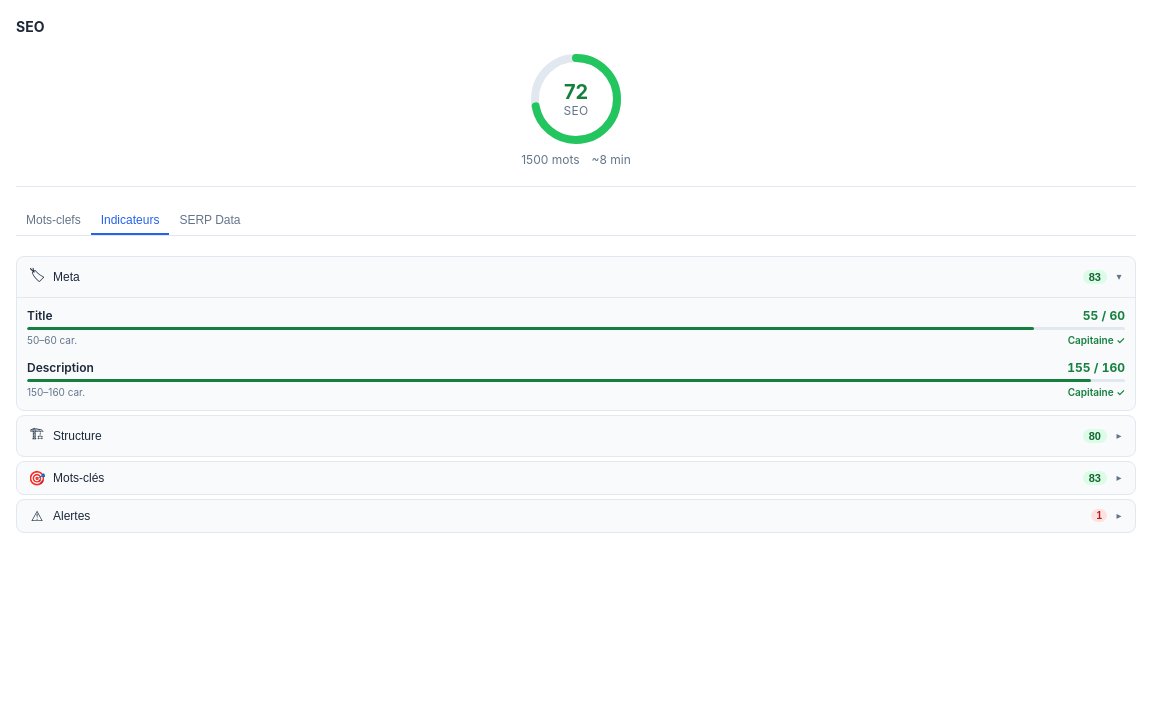
Test: SeoPanel › shows NlpTerms when category is nlp
Click the tab with class "seo-tab" showing "Mots-clefs". click: x=53, y=221
box: [16,207,91,235]
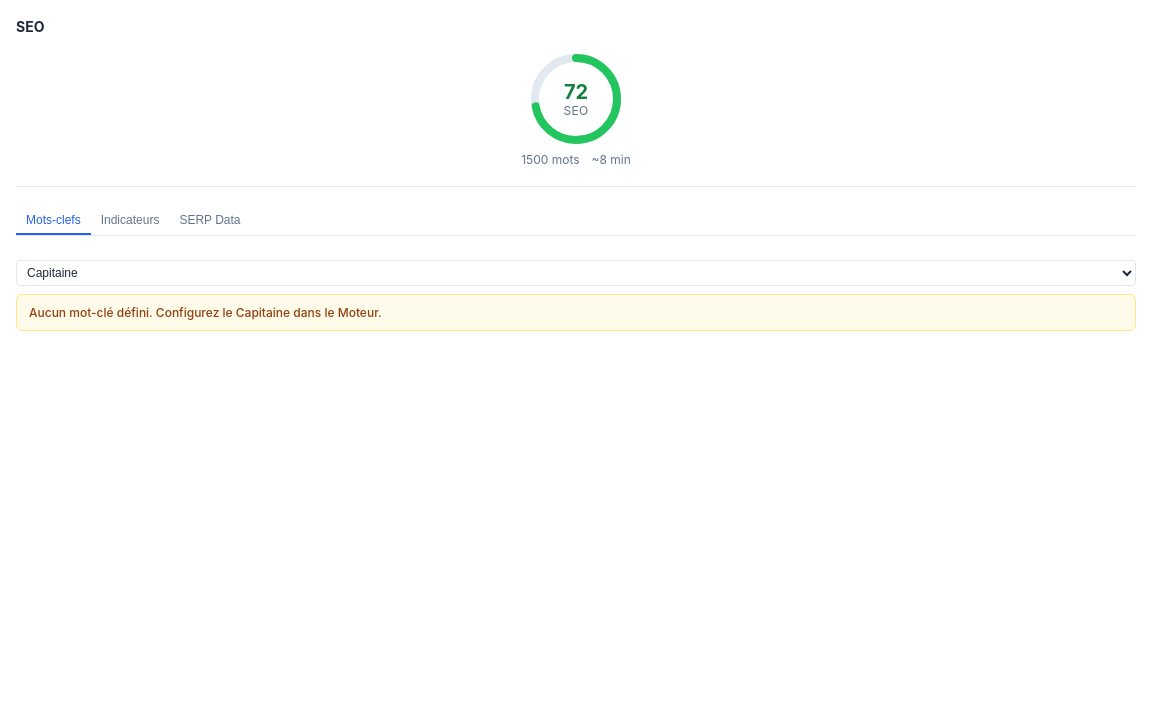
Select "Termes NLP" in the dropdown with class "keyword-select". click: x=576, y=273
box: [16,260,1136,286]
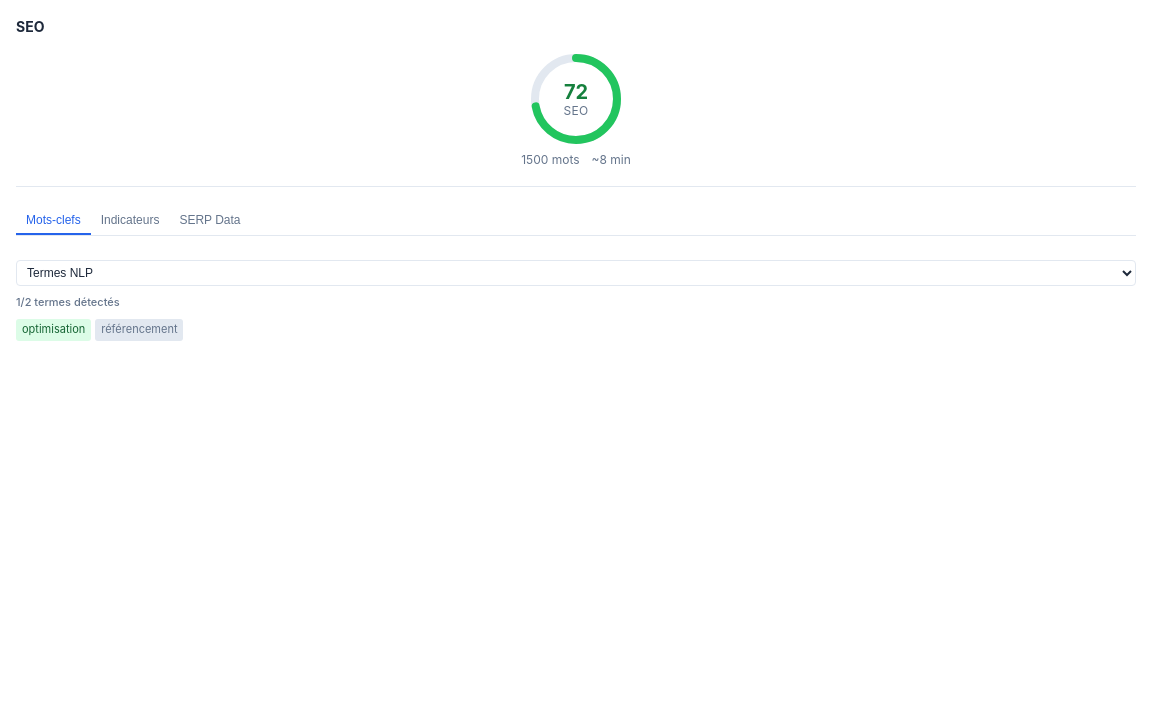
Now the element with class "nlp-terms" is shown, box [16,295,184,341]
